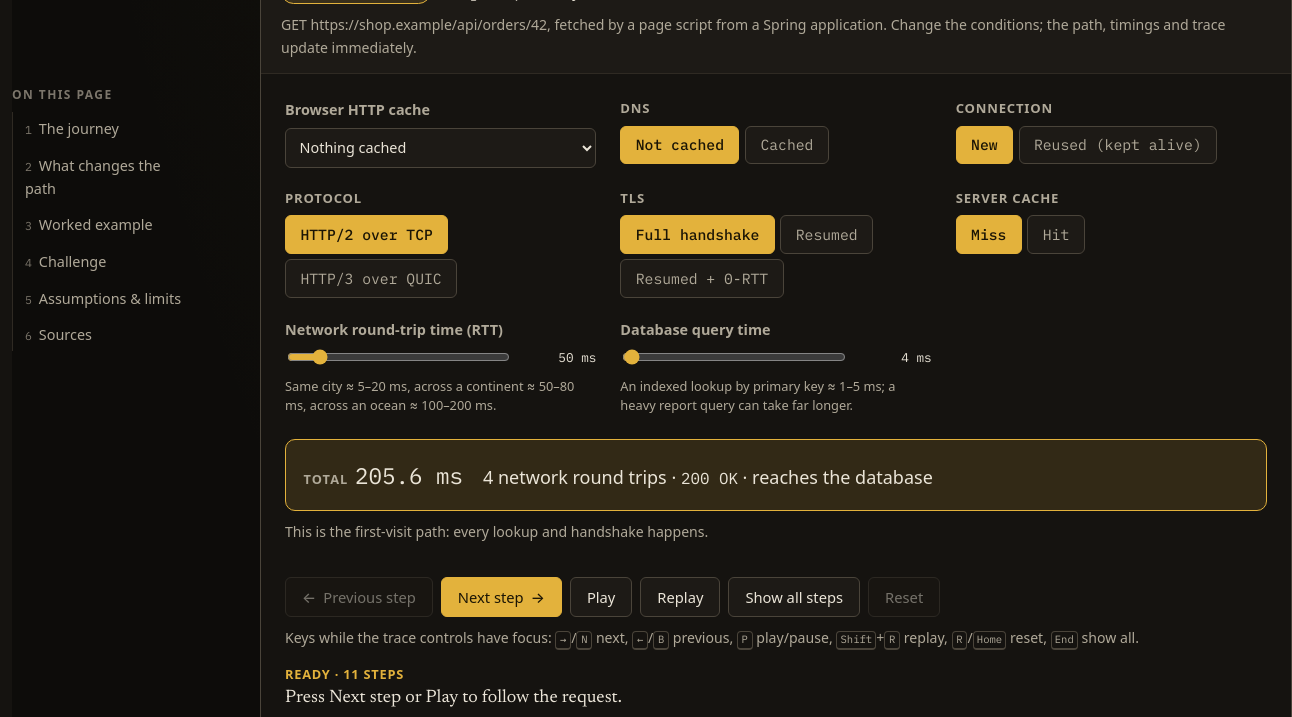
Test: Web request journey exhibit › adjusting the RTT slider recomputes the journey
The image size is (1292, 717).
(page scrolled)
Set the slider labelled "Network round-trip time (RTT)" to "100". click: (346, 357)
box: [287, 349, 510, 365]
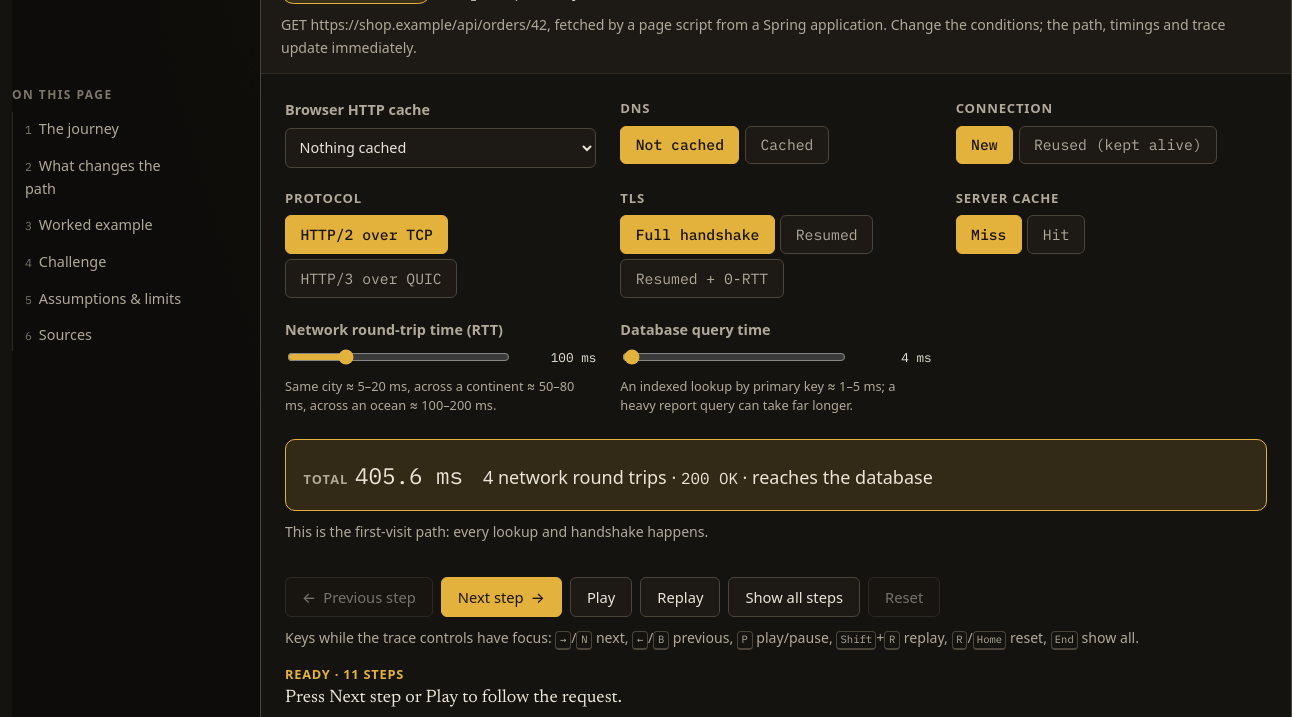
Expected: the message with test id "journey-summary" shows "405.6 ms", [355, 461, 463, 490]
